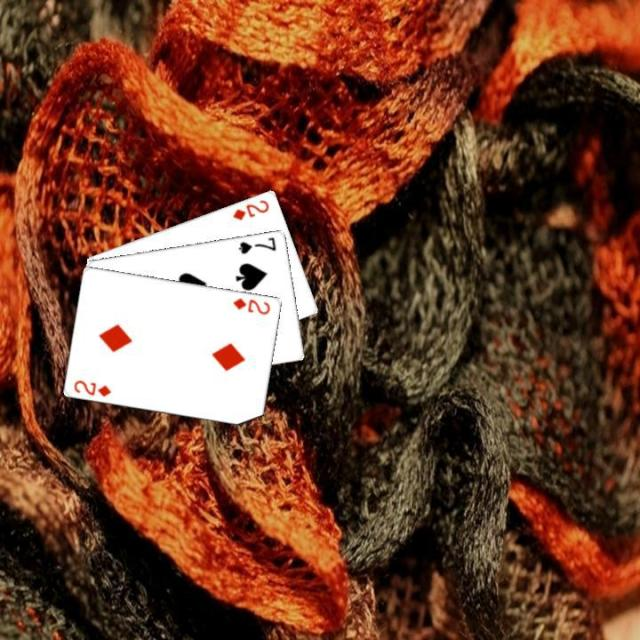2D: (229, 196, 271, 222), (229, 294, 272, 316), (70, 376, 113, 398)
7S: (235, 233, 278, 255)
